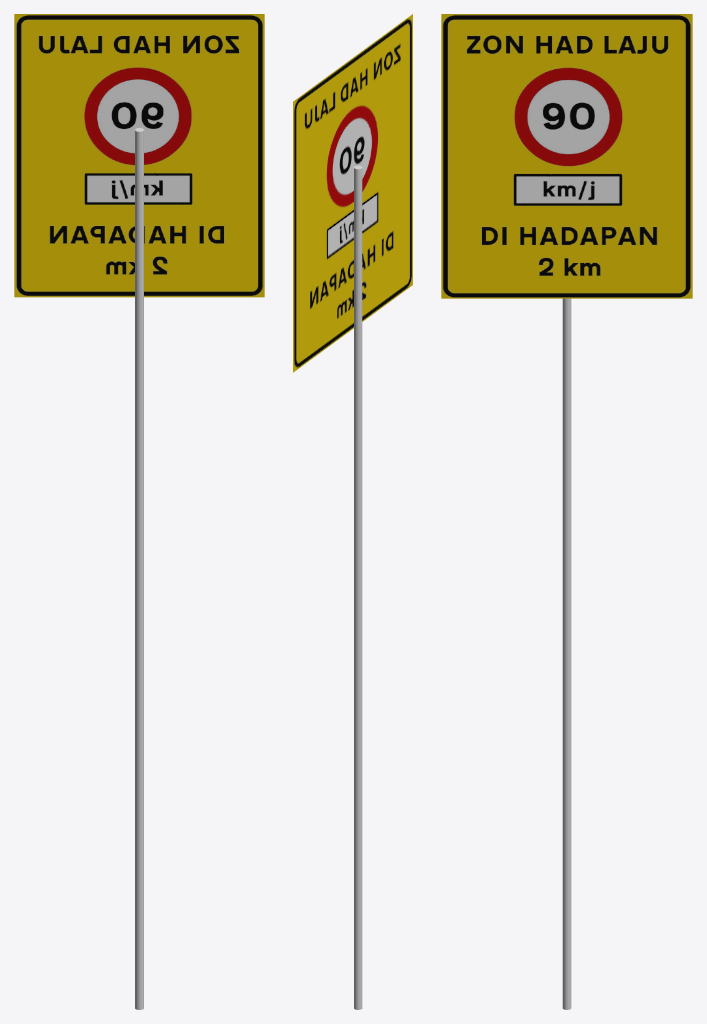
Rendered from had-laju.fbx.
The picture shows the model from 3 angles, left to right: view 1: azimuth 90°, elevation 25°; view 2: azimuth 150°, elevation 25°; view 3: azimuth 270°, elevation 25°; orthographic projection. The views are drawn at different scales.
Visible parts, largest first — view 1: had-laju, Cylinder; view 2: had-laju, Cylinder; view 3: had-laju, Cylinder.
Boxes of the visible parts, bbox=[...] form: had-laju: bbox=[14, 14, 264, 297]; Cylinder: bbox=[135, 128, 143, 1009]; had-laju: bbox=[293, 14, 412, 372]; Cylinder: bbox=[354, 165, 362, 1009]; had-laju: bbox=[441, 14, 692, 298]; Cylinder: bbox=[562, 298, 571, 1009].
Bounding box in the file's own units: 3.43 × 350 × 80.
